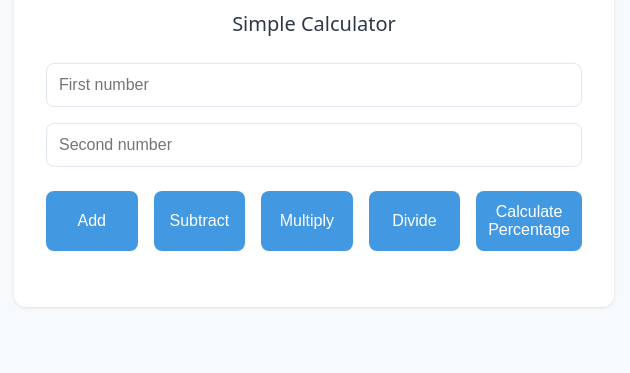
Test case: Calculator Component › should perform subtraction correctly
The image size is (630, 373).
In the number field with test id "num1-input": (314, 85) left=46, top=63, right=582, bottom=107, type "5"
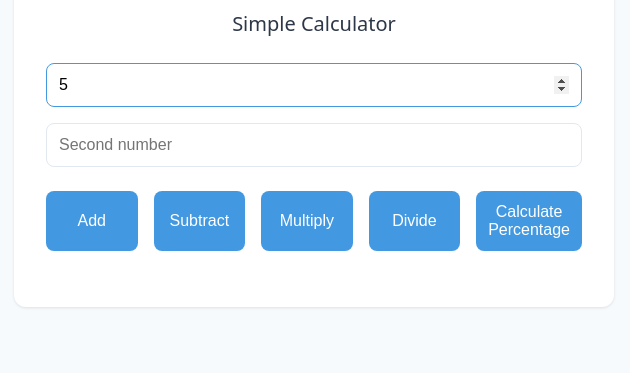
In the number field with test id "num2-input": (314, 145) left=46, top=123, right=582, bottom=167, type "3"
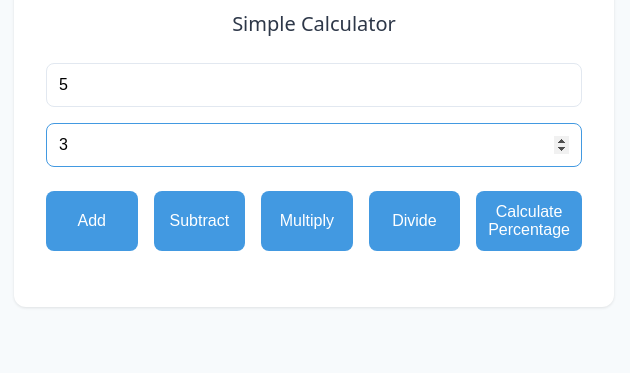
Click the button with test id "subtract-button": (199, 221) left=154, top=191, right=245, bottom=251
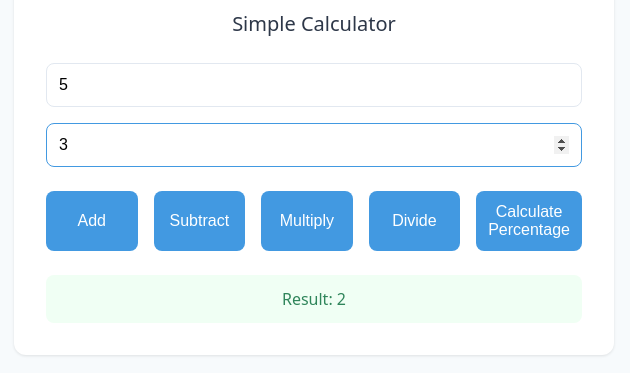
Result: the text with test id "result" reads "Result: 2" at left=46, top=275, right=582, bottom=323
